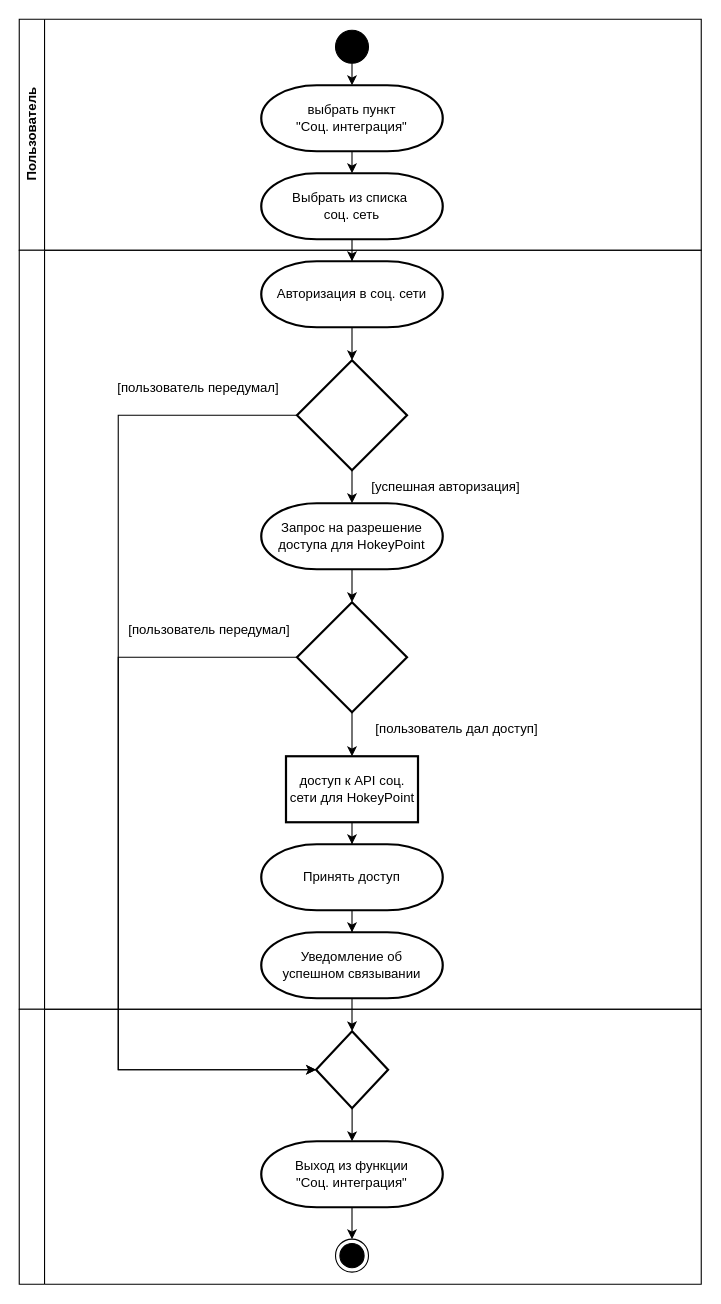
Image size: 721x1304. Some labels were removed from this diagram. The shapes that lost their labels are listed below. From the top down, each one's centre as x and y in pixels, then its label:
pixel 359 629: Выбранная соц. сеть
pixel 359 1146: HockeyPoint
